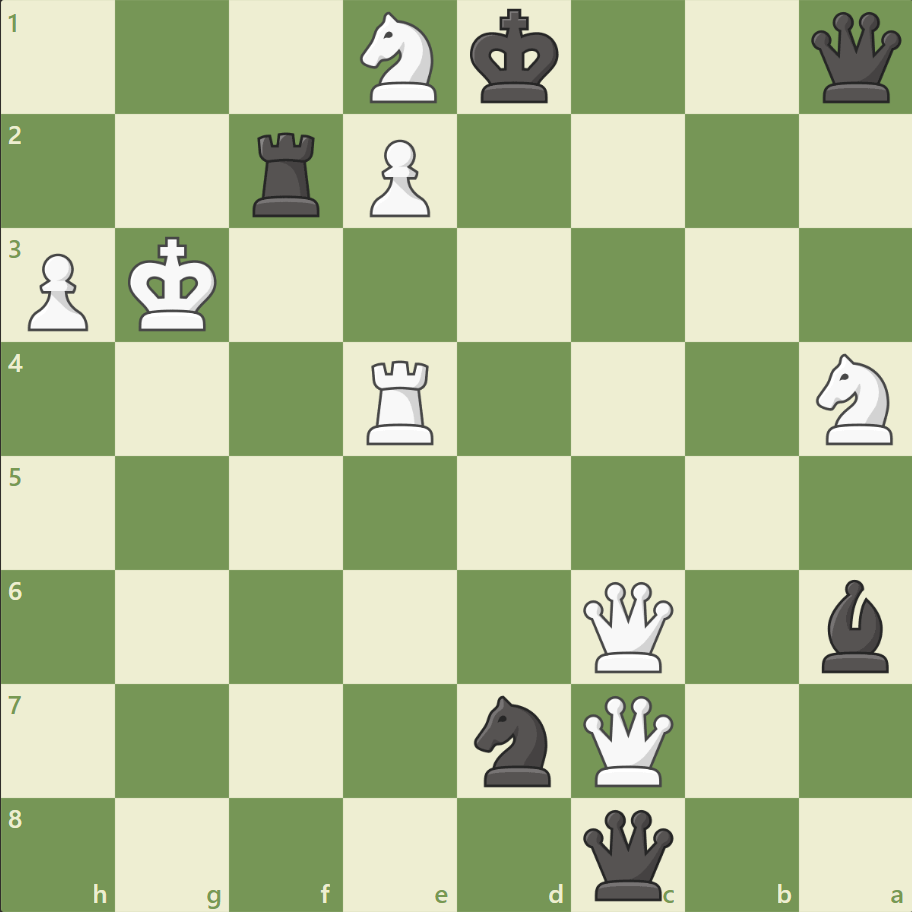K: (124, 231, 224, 339)
N: (351, 7, 449, 110), (806, 348, 903, 450)
P: (20, 246, 95, 337), (361, 132, 435, 223)
Q: (578, 576, 677, 676), (578, 690, 677, 789)
R: (360, 352, 442, 449)
b: (812, 574, 896, 676)
k: (465, 4, 565, 112)
n: (465, 688, 562, 791)
q: (578, 804, 677, 903), (805, 9, 904, 108)
r: (246, 125, 329, 222)
